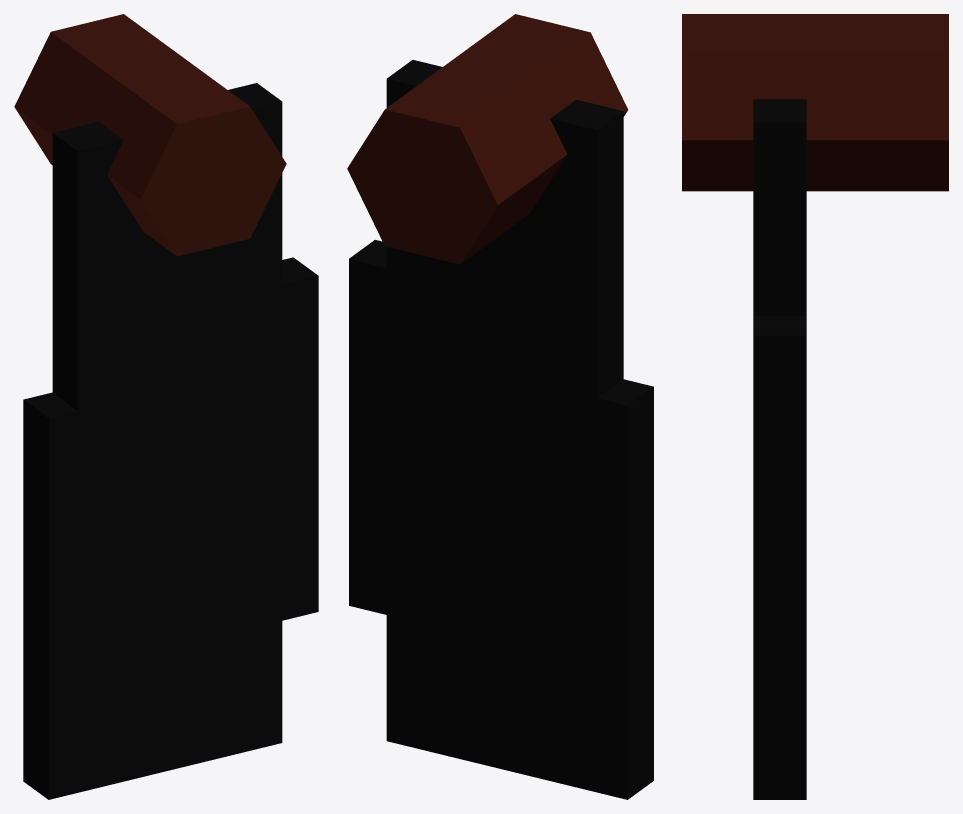
Rendered from DesertOilV2_Prop_OilLeak.fbx.
3 renders of one model, left to right at view 1: azimuth 30°, elevation 25°; view 2: azimuth 150°, elevation 25°; view 3: azimuth 270°, elevation 25°, orthographic. The views are drawn at different scales.
Visible parts, largest first — view 1: DesertOilV2_Prop_OilLeak; view 2: DesertOilV2_Prop_OilLeak; view 3: DesertOilV2_Prop_OilLeak.
Part boxes in pixels (bbox=[...]): DesertOilV2_Prop_OilLeak: bbox=[14, 14, 318, 799]; DesertOilV2_Prop_OilLeak: bbox=[347, 14, 653, 799]; DesertOilV2_Prop_OilLeak: bbox=[682, 14, 948, 799].
Size of the model in its own units: 0.185 by 0.4433 by 0.15.
